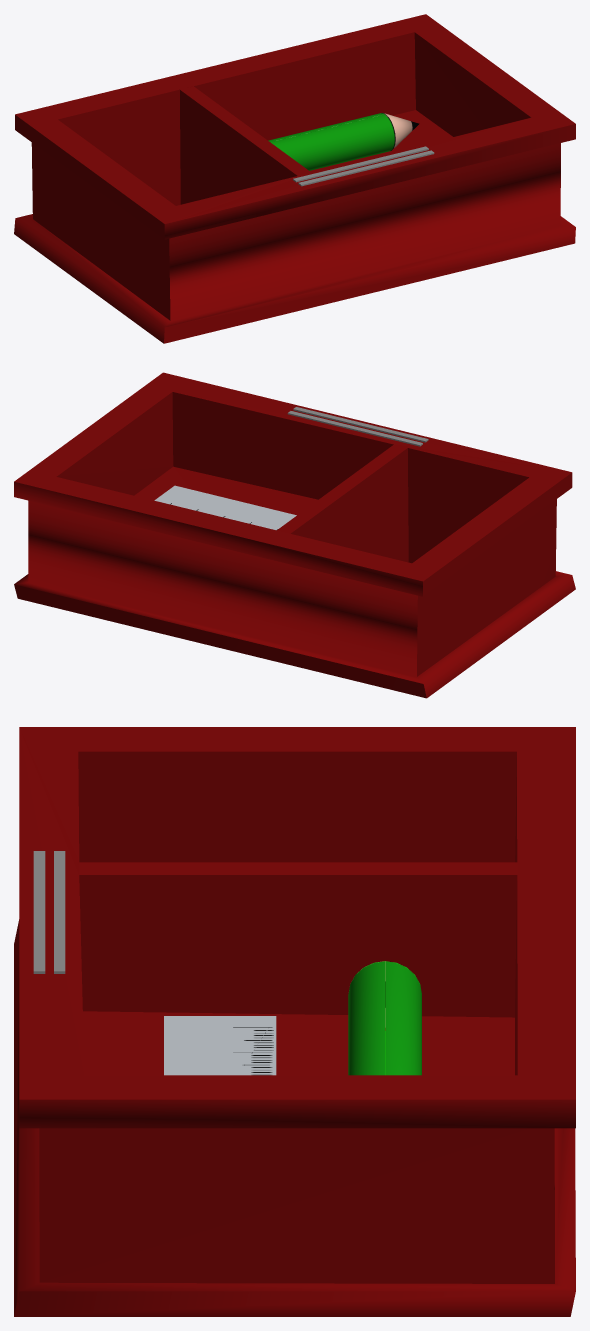
File: OtherPencilCase1.FBX
The picture shows the model from 3 angles, top to bottom: view 1: azimuth 30°, elevation 25°; view 2: azimuth 150°, elevation 25°; view 3: azimuth 270°, elevation 25°; orthographic projection. The views are drawn at different scales.
Parts seen in each view (by area): view 1: Case, Pencil2, Magnet1, Magnet2; view 2: Case, Ruler, Magnet1, Magnet2; view 3: Case, Pencil2, Ruler, Magnet1, Magnet2.
Part boxes in pixels (x1,y1,x2,y2): Case: (14, 14, 575, 343); Pencil2: (268, 112, 419, 170); Magnet1: (298, 150, 434, 186); Magnet2: (293, 146, 428, 182); Case: (14, 372, 575, 698); Ruler: (154, 485, 296, 530); Magnet1: (293, 407, 428, 442); Magnet2: (287, 411, 422, 446); Case: (14, 727, 575, 1316); Pencil2: (348, 961, 421, 1075); Ruler: (164, 1016, 276, 1075); Magnet1: (33, 851, 45, 973); Magnet2: (54, 851, 65, 973).
Bounding box in the file's own units: 155 × 43.14 × 98.56.
Materials: 4 (2 with a texture image).
